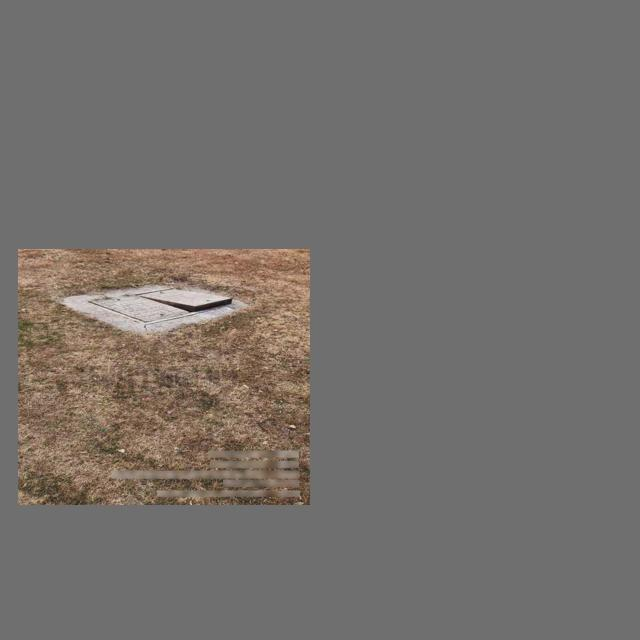uncovered: (88, 287, 235, 325)
